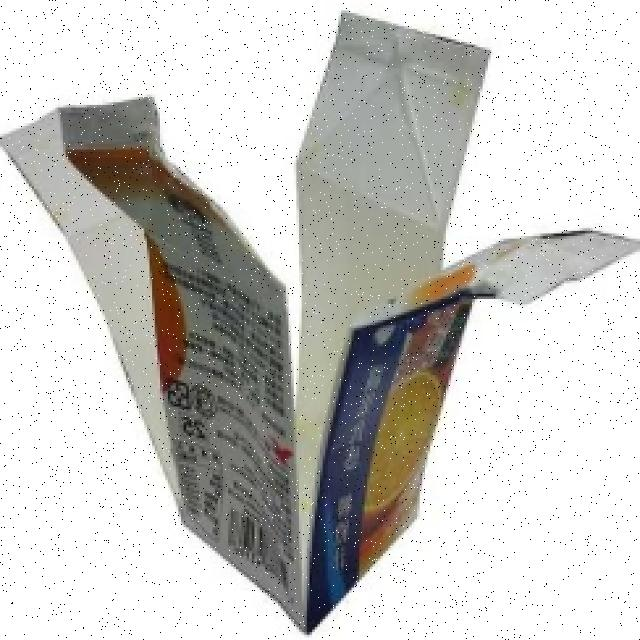box: (0, 3, 606, 606)
